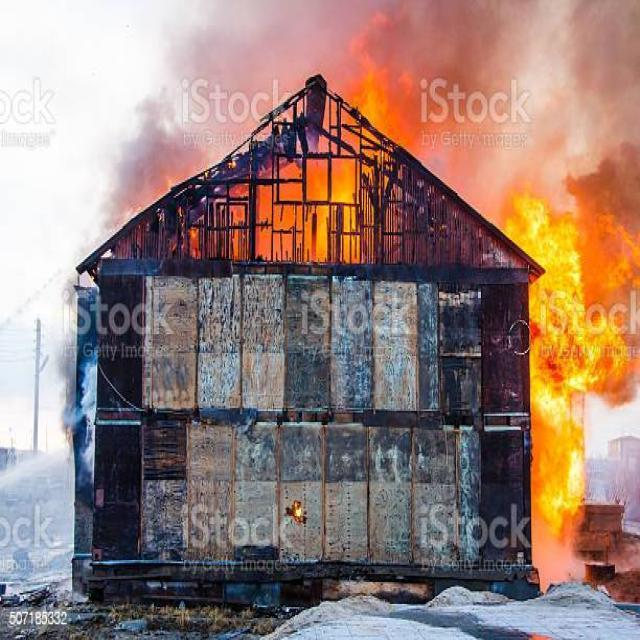Fire: (523, 195, 640, 570)
Smoke: (424, 0, 640, 170)
